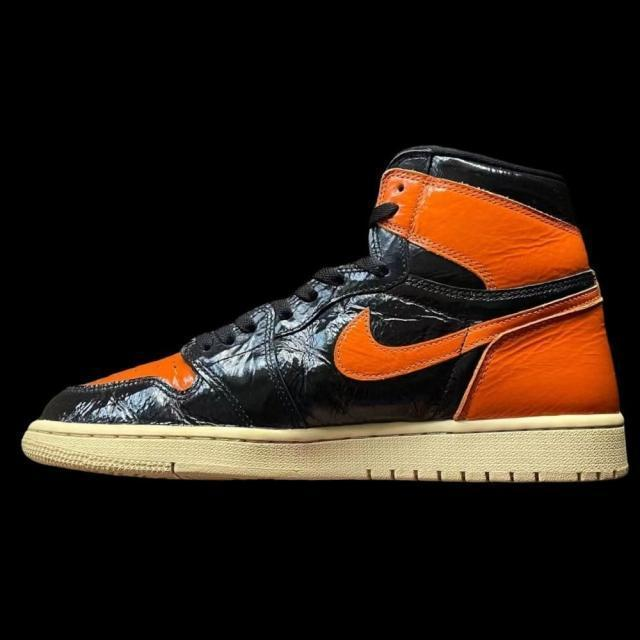nike original jordan 1: (18, 140, 632, 487)
